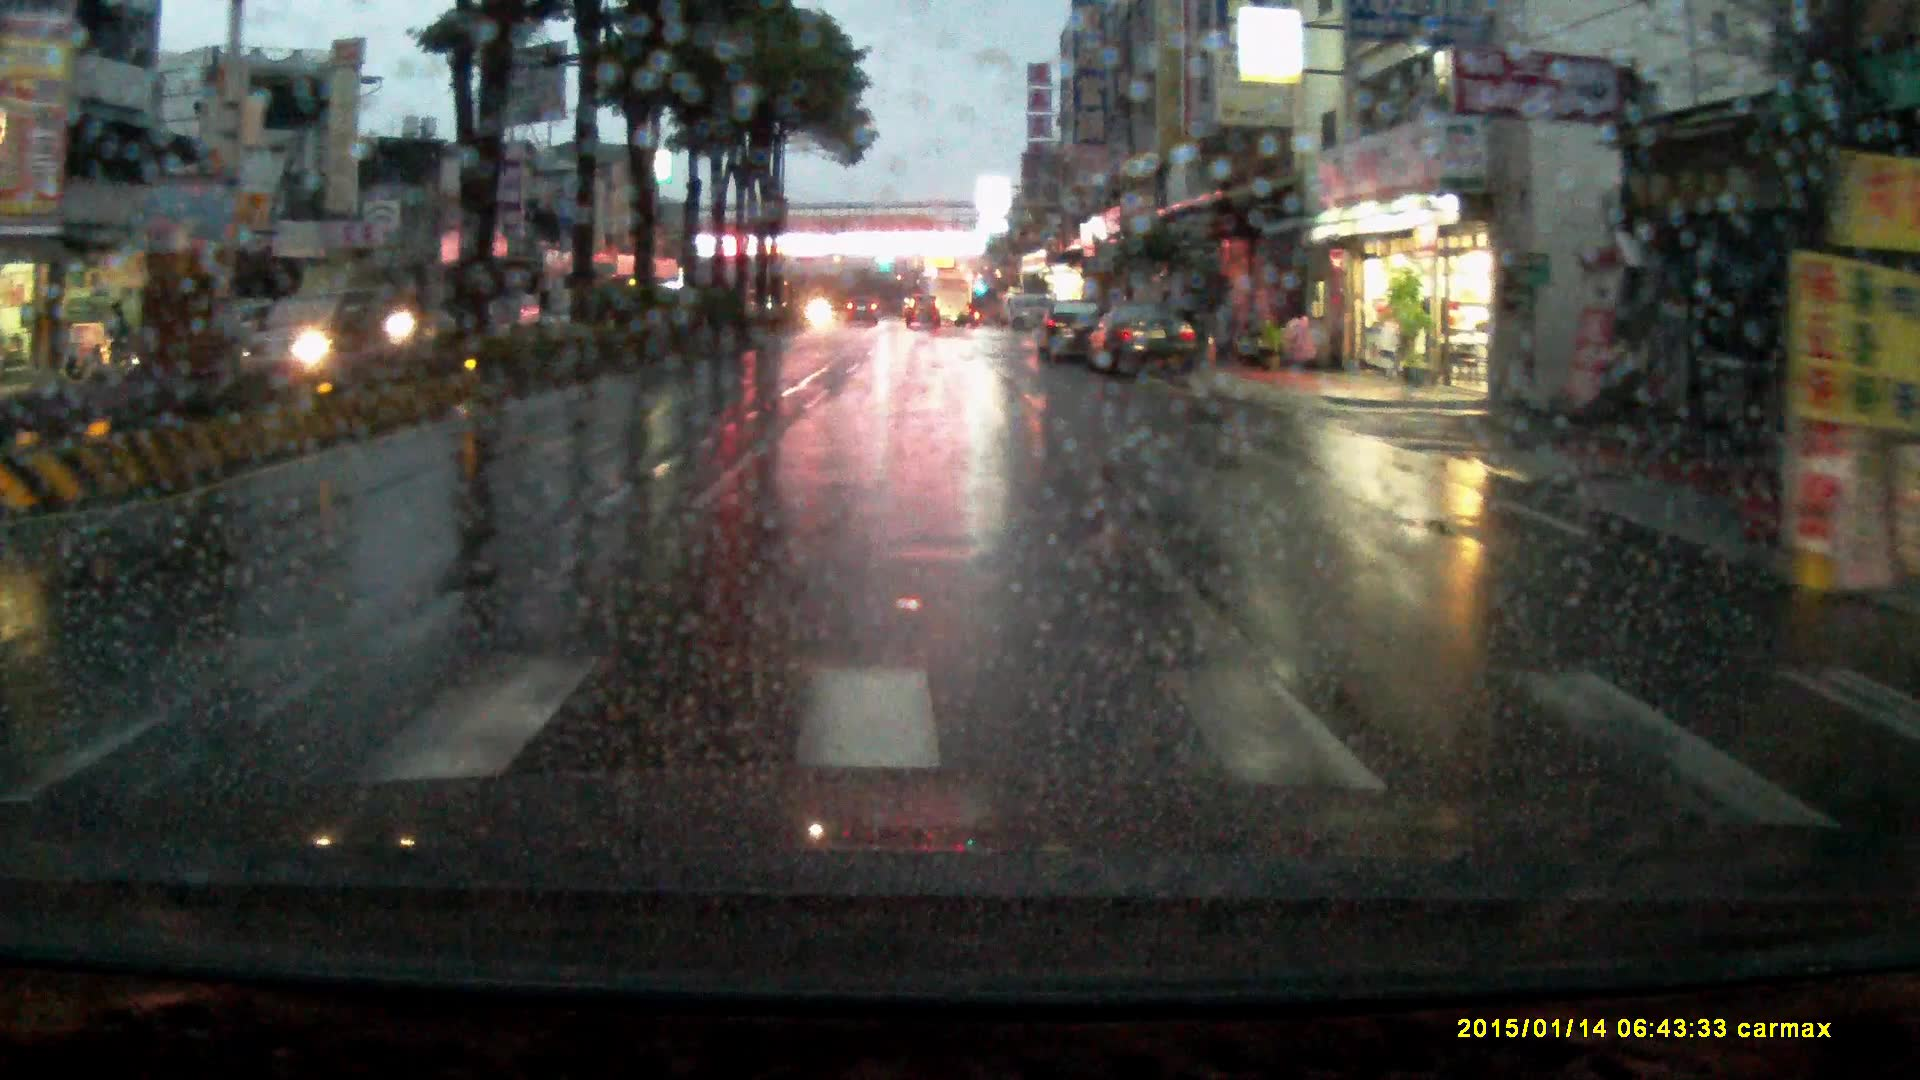rider: (372, 247, 453, 401)
vehicle: (237, 285, 415, 380), (1081, 299, 1198, 381), (184, 304, 273, 367), (1032, 297, 1101, 363), (917, 270, 975, 327), (904, 292, 940, 329), (845, 294, 878, 324)
